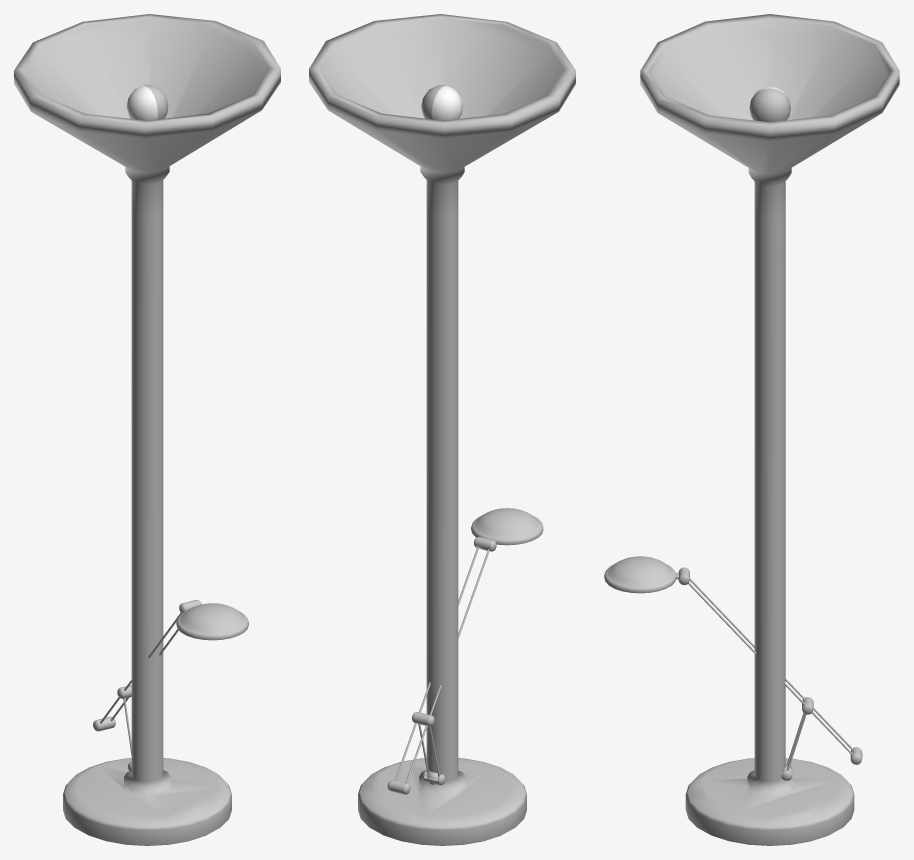
The model's file is buerolampen.fbx.
3 renders of one model, left to right at view 1: azimuth 30°, elevation 25°; view 2: azimuth 150°, elevation 25°; view 3: azimuth 270°, elevation 25°, orthographic.
Visible parts, largest first — view 1: Mesh_ncl1_2, Mesh_ncl1_1, Mesh; view 2: Mesh_ncl1_2, Mesh_ncl1_1, Mesh; view 3: Mesh_ncl1_1, Mesh_ncl1_2, Mesh.
Part boxes in pixels (x1,y1,x2,y2): Mesh_ncl1_2: (14,14,279,845); Mesh_ncl1_1: (14,14,280,840); Mesh: (93,600,248,796); Mesh_ncl1_2: (313,16,575,845); Mesh_ncl1_1: (309,14,575,840); Mesh: (387,508,543,797); Mesh_ncl1_1: (640,14,899,845); Mesh_ncl1_2: (640,14,896,816); Mesh: (604,556,862,796).
Bounding box in the file's own units: 56.83 × 173 × 62.55.
